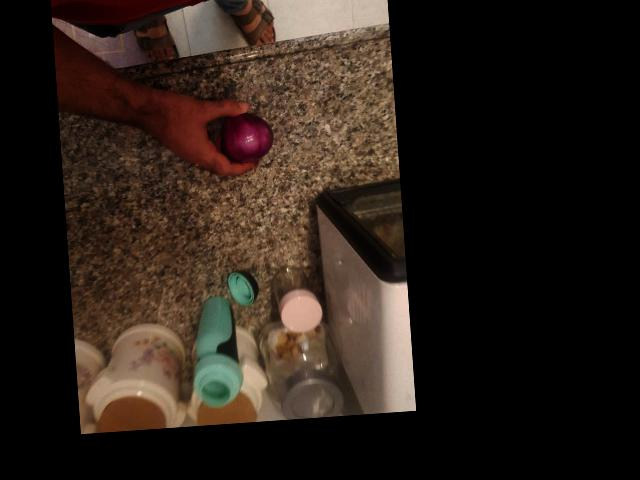onion: (211, 107, 272, 164)
